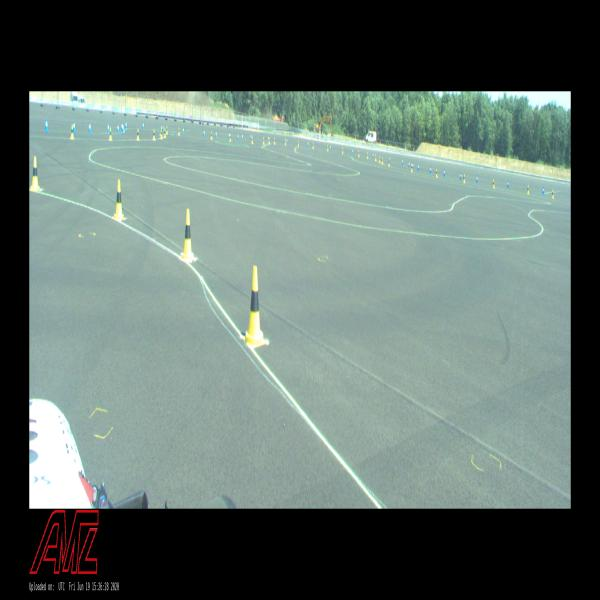blue_cone: (46, 117, 49, 131), (73, 119, 76, 133), (107, 122, 110, 133), (122, 123, 125, 132), (476, 174, 479, 183), (125, 120, 128, 128), (89, 121, 91, 132), (444, 168, 446, 177), (121, 121, 123, 130), (203, 129, 205, 137), (117, 124, 119, 132), (430, 166, 432, 174), (542, 186, 544, 194), (460, 172, 462, 180), (215, 130, 217, 138), (507, 180, 509, 187), (408, 160, 410, 167), (418, 164, 420, 171), (389, 155, 391, 162), (237, 133, 239, 140), (142, 122, 144, 128), (412, 162, 414, 168), (307, 141, 309, 147), (242, 134, 244, 140), (250, 134, 252, 140), (372, 153, 374, 158), (183, 126, 184, 134), (163, 123, 164, 131), (229, 132, 230, 140), (268, 135, 269, 142), (402, 160, 403, 166), (352, 149, 353, 154)
yellow_cone: (245, 266, 264, 346), (182, 209, 194, 258), (114, 180, 124, 220), (31, 156, 39, 190), (70, 124, 74, 139), (136, 128, 140, 140), (109, 126, 112, 140), (160, 125, 163, 135), (153, 129, 155, 140), (552, 188, 554, 199), (527, 184, 529, 194), (160, 128, 162, 138), (463, 174, 465, 183), (492, 179, 494, 187), (436, 169, 438, 177), (178, 127, 180, 135), (166, 125, 168, 133), (164, 128, 166, 136), (229, 134, 231, 142), (410, 164, 412, 172), (358, 150, 360, 157), (312, 142, 314, 149), (268, 137, 270, 143), (211, 131, 212, 139), (252, 136, 253, 144), (263, 137, 264, 145), (382, 157, 383, 164), (285, 138, 286, 145), (379, 155, 380, 162), (298, 140, 299, 147), (367, 152, 368, 158), (274, 137, 275, 143), (375, 154, 376, 160), (342, 147, 343, 153), (388, 160, 389, 166), (327, 144, 328, 150)
